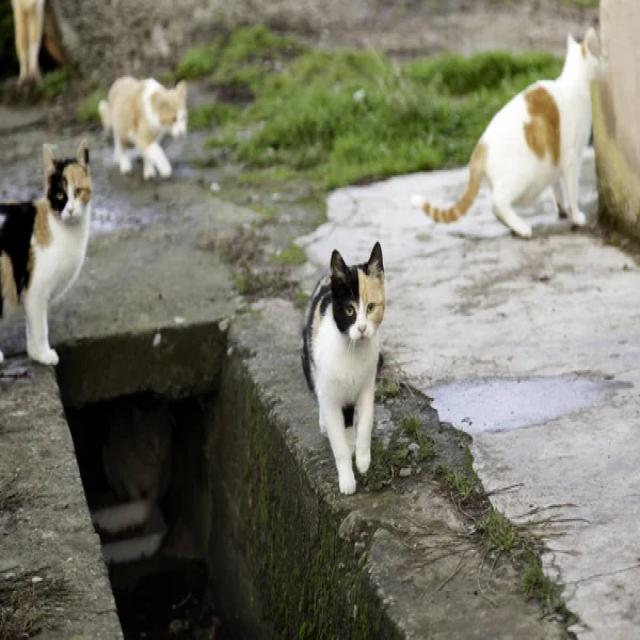cat: (421, 29, 601, 237), (302, 242, 385, 494), (0, 142, 91, 364), (99, 77, 186, 179)
